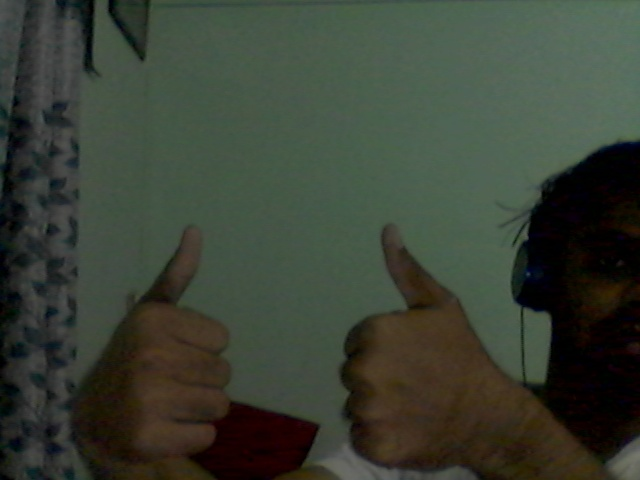Thank You: (64, 188, 618, 480)
